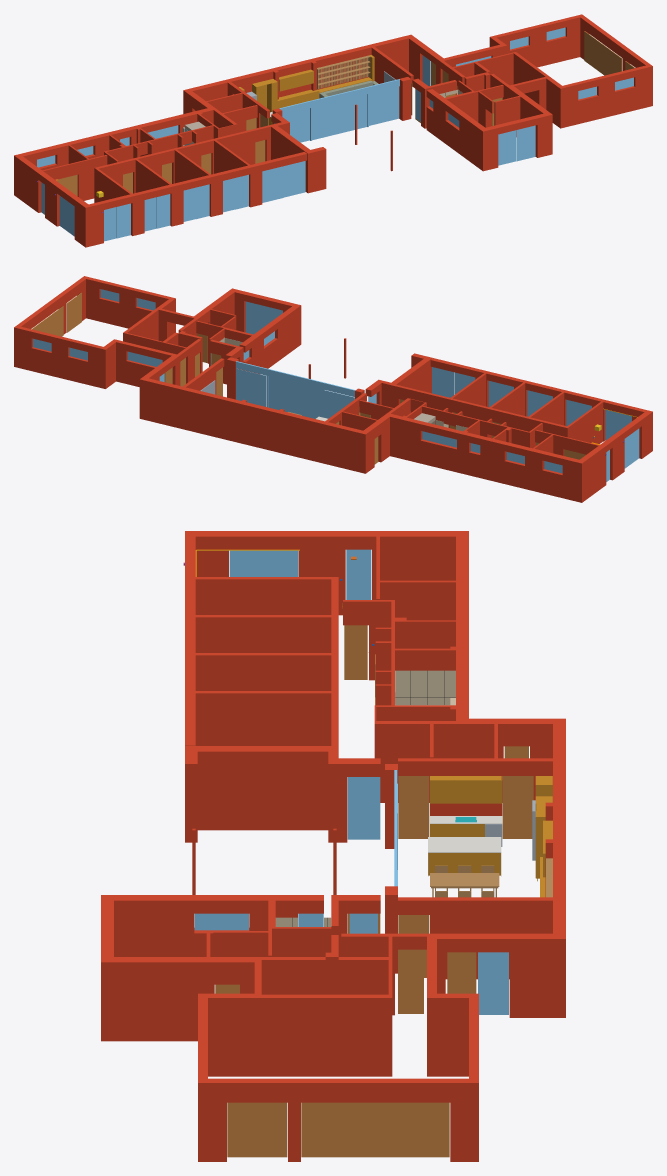
File: ground_floor.glb
3 views of the same model, one above another, from view 1: azimuth 30°, elevation 25°; view 2: azimuth 150°, elevation 25°; view 3: azimuth 270°, elevation 25° (orthographic). The views are drawn at different scales.
Parts seen in each view (by area): view 1: masonry__W-002__, masonry__W-005__, masonry__W-029__, masonry__W-013__, masonry__W-030__, masonry__W-054__, masonry__W-026__, masonry__W-027__, glazing__WIN-OP28__, glazing__WIN-OP21__ (×2), masonry__W-001__, masonry__W-067__ (+39 smaller); view 2: masonry__W-029__, masonry__W-026__, masonry__W-027__, masonry__W-005__, masonry__W-030__, masonry__W-013__, masonry__W-002__, masonry__W-054__, glazing__WIN-OP28__, masonry__W-025__, masonry__W-022__, masonry__W-067__ (+31 smaller); view 3: masonry__W-049__, masonry__W-066__, masonry__W-067__, masonry__W-063__, masonry__W-030__, masonry__W-054__, door__D-OP50__, masonry__W-044__, masonry__W-060__, masonry__W-056__, masonry__W-031__, masonry__W-034__ (+39 smaller).
Boxes of the visible parts, bbox=[...] form: masonry__W-002__: bbox=[89, 152, 307, 245]; masonry__W-005__: bbox=[558, 65, 648, 128]; masonry__W-029__: bbox=[183, 34, 413, 113]; masonry__W-013__: bbox=[94, 125, 270, 202]; masonry__W-030__: bbox=[17, 156, 91, 247]; masonry__W-054__: bbox=[426, 89, 488, 171]; masonry__W-026__: bbox=[14, 107, 216, 197]; masonry__W-027__: bbox=[489, 15, 580, 67]; glazing__WIN-OP28__: bbox=[312, 94, 367, 140]; glazing__WIN-OP21__ (×2): bbox=[262, 161, 305, 202]; masonry__W-001__: bbox=[485, 113, 546, 169]; masonry__W-067__: bbox=[578, 14, 652, 106]; masonry__W-029__: bbox=[139, 377, 368, 473]; masonry__W-026__: bbox=[385, 413, 585, 502]; masonry__W-027__: bbox=[18, 326, 107, 388]; masonry__W-005__: bbox=[86, 277, 175, 333]; masonry__W-030__: bbox=[580, 410, 652, 500]; masonry__W-013__: bbox=[394, 384, 569, 437]; masonry__W-002__: bbox=[430, 358, 646, 441]; masonry__W-054__: bbox=[239, 304, 301, 374]; glazing__WIN-OP28__: bbox=[268, 376, 322, 418]; masonry__W-025__: bbox=[112, 339, 173, 386]; masonry__W-022__: bbox=[422, 406, 530, 447]; masonry__W-067__: bbox=[14, 276, 88, 367]; masonry__W-049__: bbox=[185, 746, 338, 830]; masonry__W-066__: bbox=[261, 994, 392, 1076]; masonry__W-067__: bbox=[198, 1078, 478, 1161]; masonry__W-063__: bbox=[101, 957, 261, 1041]; masonry__W-030__: bbox=[185, 531, 455, 615]; masonry__W-054__: bbox=[101, 895, 323, 956]; door__D-OP50__: bbox=[301, 1102, 449, 1157]; masonry__W-044__: bbox=[195, 691, 331, 745]; masonry__W-060__: bbox=[427, 933, 552, 1017]; masonry__W-056__: bbox=[398, 897, 552, 979]; masonry__W-031__: bbox=[195, 577, 331, 614]; masonry__W-034__: bbox=[195, 615, 331, 652].
Size of the model in its own units: 45.1 by 3.05 by 16.05.
